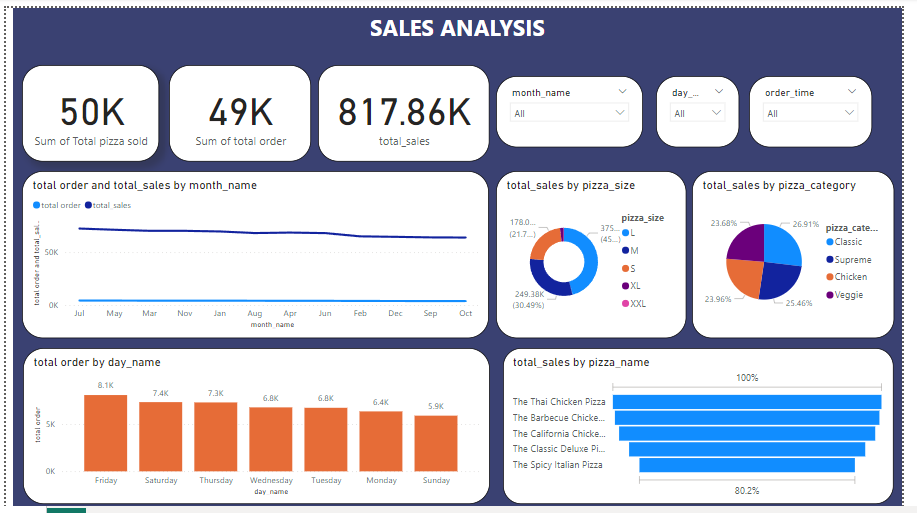

The dashboard page shown, as its layout file describes it:
{"tool":"powerbi","page":{"name":"Page 1","canvas":[1280,720],"ordinal":0},"visuals":[{"type":"textbox","box":[10.1,0,1269.9,720],"z":0},{"type":"card","fields":{"Values":["Sum(pizza_aggregates.quantity)"]},"box":[23,82.1,195.8,138.2],"z":1000},{"type":"card","fields":{"Values":["Sum(pizza_aggregates.order_id)"]},"box":[233.3,82.1,203,138.2],"z":2000},{"type":"card","fields":{"Values":["Sum(pizza_aggregates.total_sales)"]},"box":[446.4,82.1,244.8,138.2],"z":3000},{"type":"lineChart","fields":{"Category":["pizza_aggregates.month_name"],"Y":["Sum(pizza_aggregates.total order)","Sum(pizza_aggregates.total_sales)"]},"box":[23.5,233.5,666.9,238.5],"z":4000},{"type":"clusteredColumnChart","fields":{"Category":["pizza_aggregates.day_name"],"Y":["Sum(pizza_aggregates.total order)"]},"box":[24.5,485.3,666.7,223.2],"z":5000},{"type":"donutChart","fields":{"Category":["pizza_aggregates.pizza_size"],"Y":["Sum(pizza_aggregates.total_sales)"]},"box":[700.5,233.5,272.1,238.5],"z":6000},{"type":"pieChart","fields":{"Y":["Sum(pizza_aggregates.total_sales)"],"Series":["pizza_aggregates.pizza_category"]},"box":[979.3,233.5,288.9,238.5],"z":7000},{"type":"funnel","fields":{"Category":["pizza_aggregates.pizza_name"],"Y":["Sum(pizza_aggregates.total_sales)"]},"box":[710.6,485.5,557.7,223.4],"z":8000},{"type":"slicer","fields":{"Values":["pizza_aggregates.month_name"]},"box":[700.5,97.4,210,102.5],"z":9000},{"type":"slicer","fields":{"Values":["pizza_aggregates.day_name"]},"box":[928.9,97.4,119.3,102.5],"z":9001},{"type":"slicer","fields":{"Values":["pizza_aggregates.order_time"]},"box":[1061.6,97.4,176.4,102.5],"z":9002}]}

Visuals, with their boxes in screenshot pixels (x1, y1, x2, y2), scaled from the page's 1280x720 canvas onto the 917x513 screenshot:
textbox: x1=7, y1=0, x2=916, y2=512
card - Sum(pizza_aggregates.quantity): x1=16, y1=58, x2=157, y2=157
card - Sum(pizza_aggregates.order_id): x1=167, y1=58, x2=313, y2=157
card - Sum(pizza_aggregates.total_sales): x1=320, y1=58, x2=495, y2=157
lineChart - pizza_aggregates.month_name x Sum(pizza_aggregates.total order): x1=17, y1=166, x2=495, y2=336
clusteredColumnChart - pizza_aggregates.day_name x Sum(pizza_aggregates.total order): x1=18, y1=346, x2=495, y2=505
donutChart - pizza_aggregates.pizza_size x Sum(pizza_aggregates.total_sales): x1=502, y1=166, x2=697, y2=336
pieChart - Sum(pizza_aggregates.total_sales) x pizza_aggregates.pizza_category: x1=702, y1=166, x2=909, y2=336
funnel - pizza_aggregates.pizza_name x Sum(pizza_aggregates.total_sales): x1=509, y1=346, x2=909, y2=505
slicer - pizza_aggregates.month_name: x1=502, y1=69, x2=652, y2=142
slicer - pizza_aggregates.day_name: x1=665, y1=69, x2=751, y2=142
slicer - pizza_aggregates.order_time: x1=761, y1=69, x2=887, y2=142
